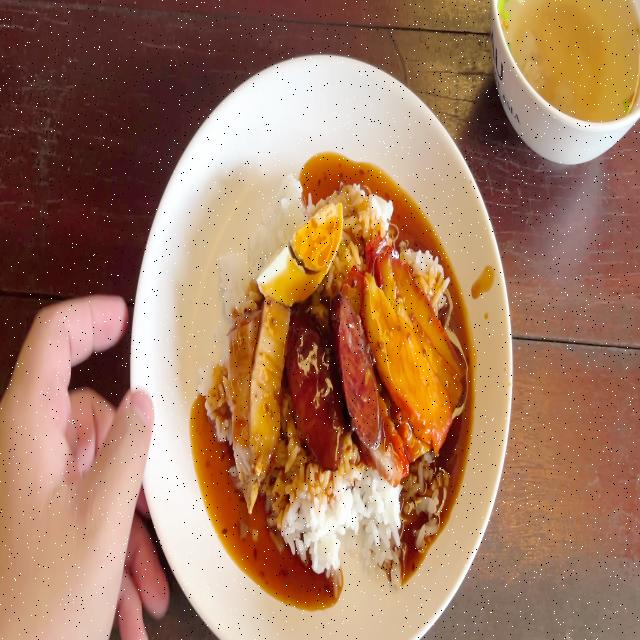boiled_egg: (254, 200, 340, 298)
chainese_sausage: (288, 303, 337, 459), (341, 297, 376, 440)
crispy_pork: (251, 304, 291, 461), (231, 306, 255, 488)
red_pork: (376, 243, 455, 464), (360, 261, 449, 431)
red_pork_and_crispy_pork: (199, 173, 466, 580)
rice: (276, 466, 400, 558), (219, 175, 303, 299), (344, 182, 390, 228)
